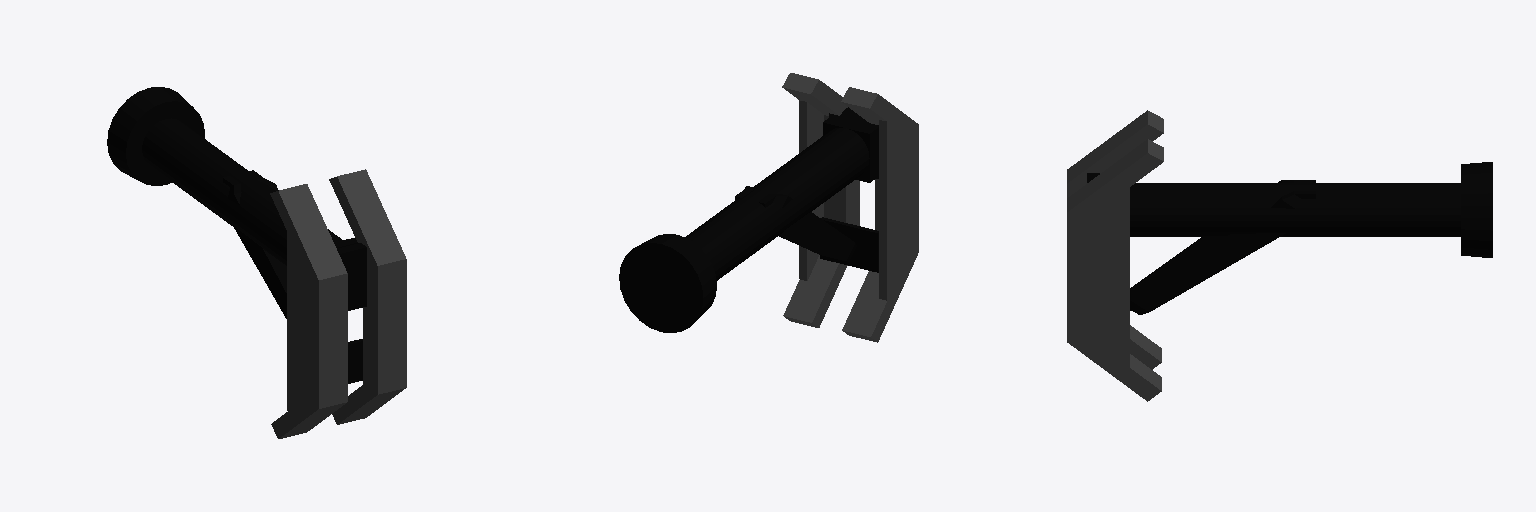
Rendered from stock4.model.obj.
The picture shows the model from 3 angles: view 1: azimuth 30°, elevation 25°; view 2: azimuth 150°, elevation 25°; view 3: azimuth 270°, elevation 25°; orthographic projection.
Size of the model in its own units: 0.2 by 0.5409 by 0.8409.